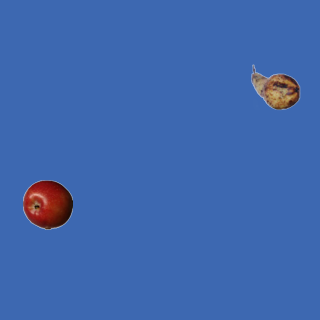Apple Braeburn: (22, 179, 72, 229)
Pear Abate: (250, 62, 300, 112)
